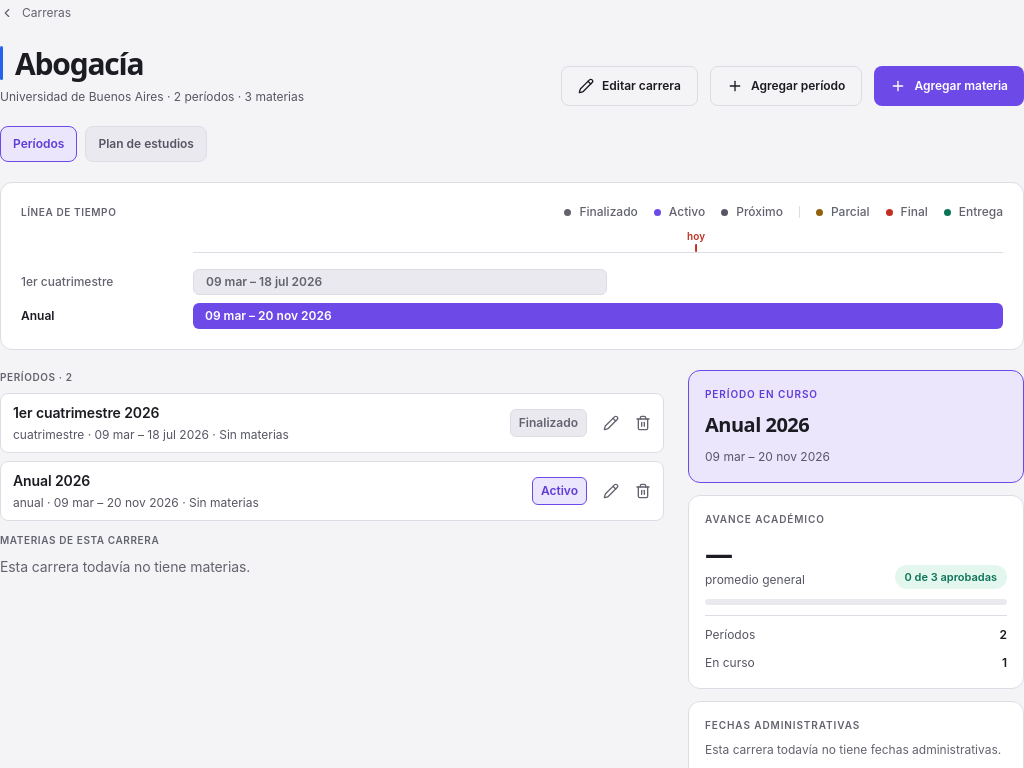
Scenario: CarreraDetailContainer — editar y eliminar períodos › closes the form once the period is saved
expect the heading "Abogacía" is shown: met, box [15,46,144,80]
Click the button named "Editar 1er cuatrimestre". click: (611, 423)
box: [595,407,627,439]
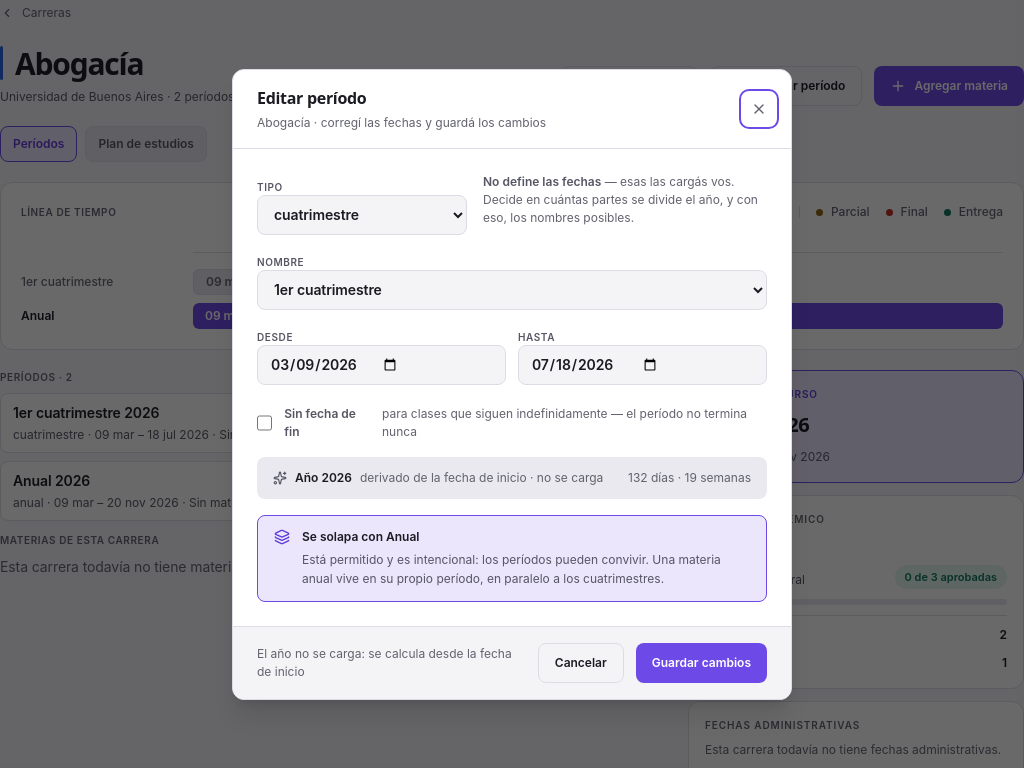
Click the button "Guardar cambios". click: (701, 662)
box: [636,642,767,682]
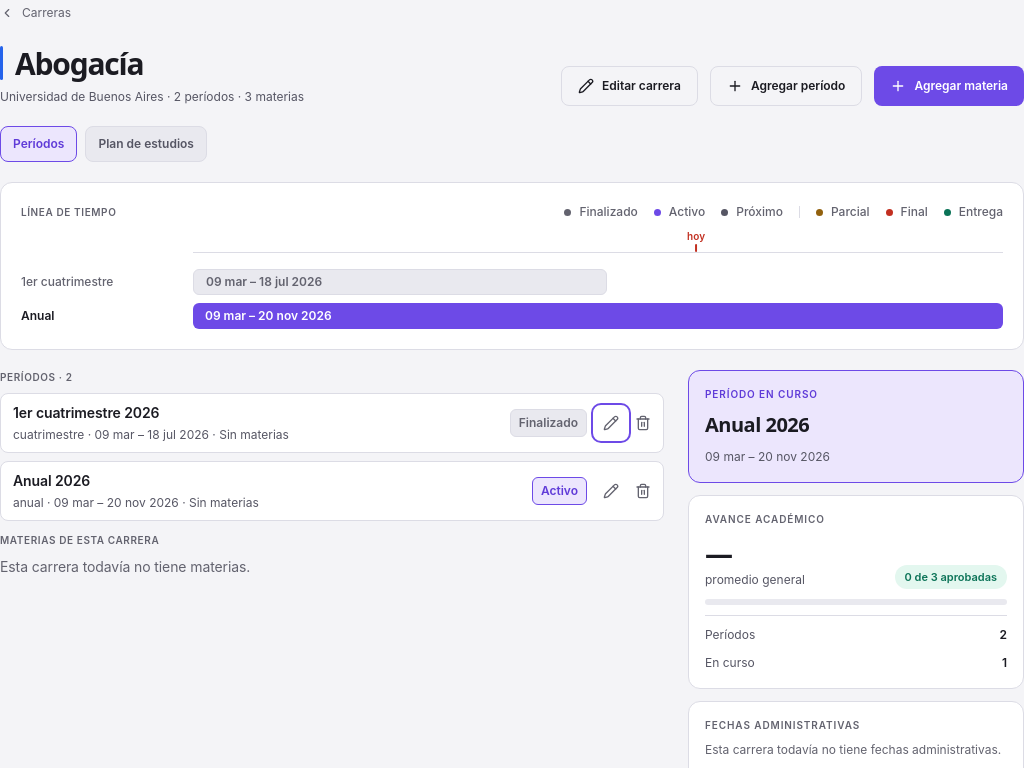
expect the heading "Editar período" is gone: met
